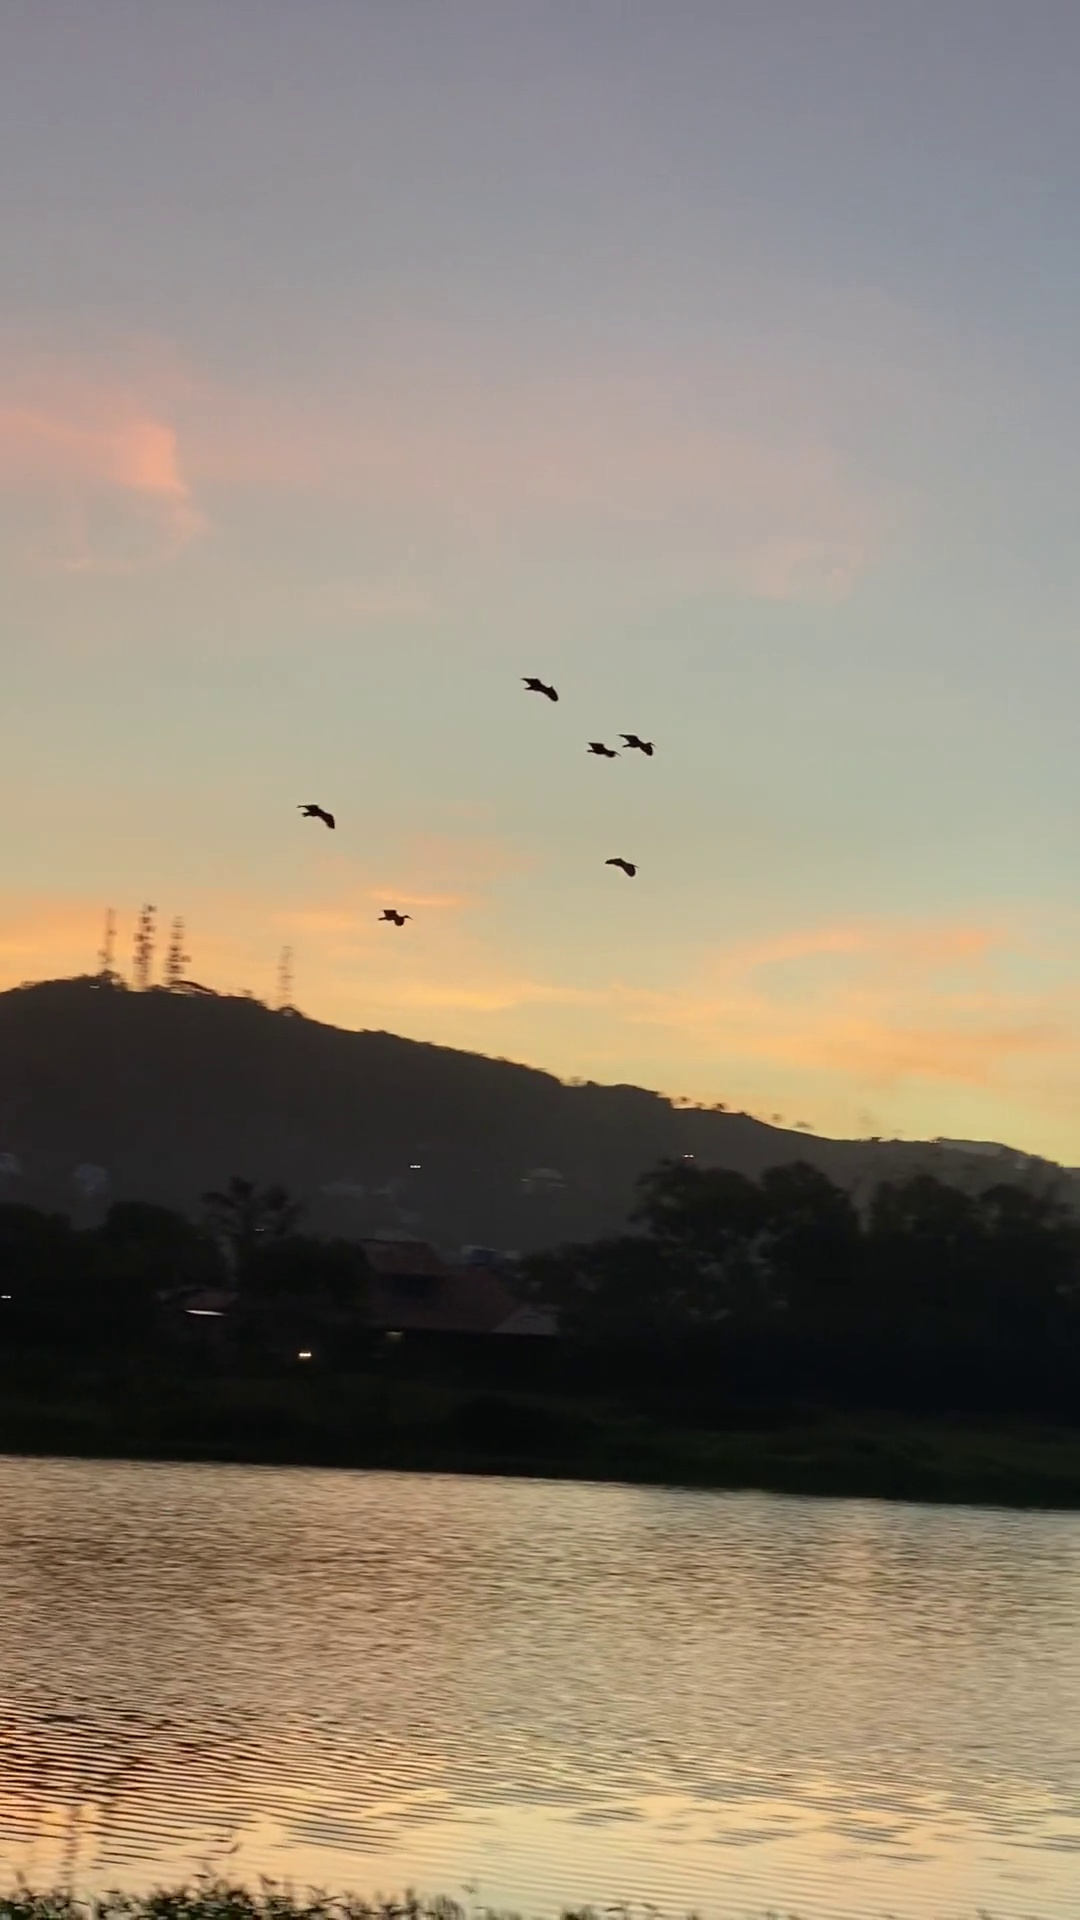bird: (524, 676, 559, 702), (299, 804, 335, 829), (605, 855, 638, 877), (620, 733, 653, 754), (378, 907, 411, 928), (585, 738, 618, 757)
